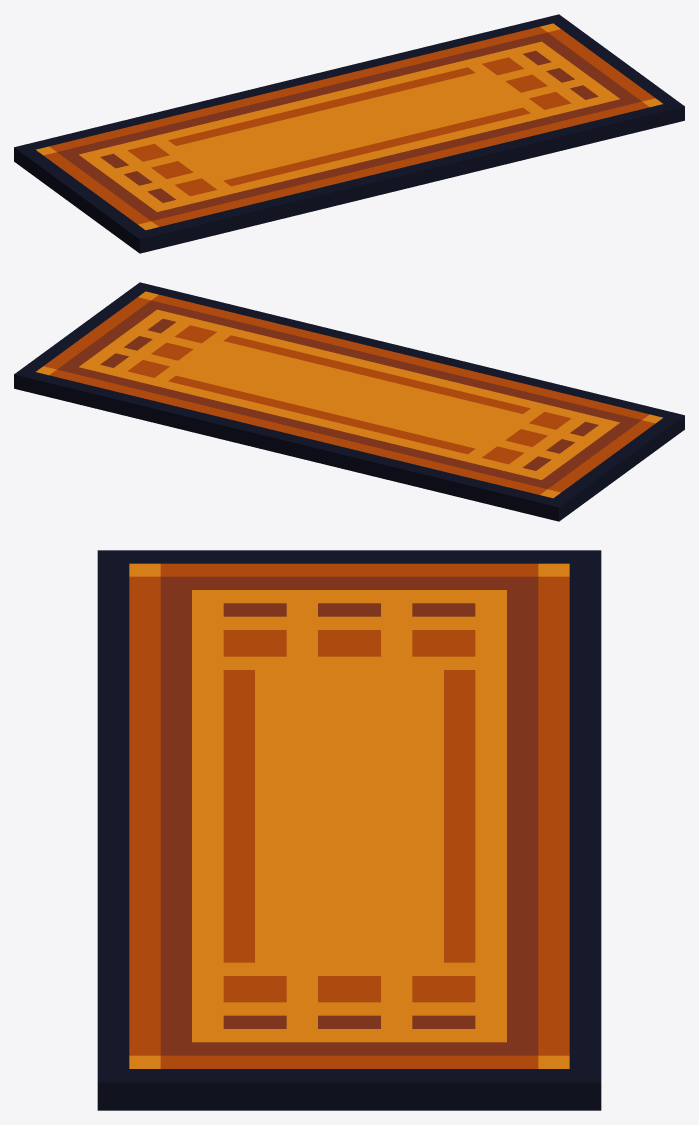
Rendered from Teppich.obj.
3 renders of one model, top to bottom at view 1: azimuth 30°, elevation 25°; view 2: azimuth 150°, elevation 25°; view 3: azimuth 270°, elevation 25°, orthographic. The views are drawn at different scales.
Visible parts, largest first — view 1: Teppich; view 2: Teppich; view 3: Teppich.
Part boxes in pixels (x1,y1,x2,y2): Teppich: [14, 14, 684, 253]; Teppich: [14, 282, 684, 521]; Teppich: [97, 550, 601, 1110].
Size of the model in its own units: 2.5 by 0.0625 by 1.
